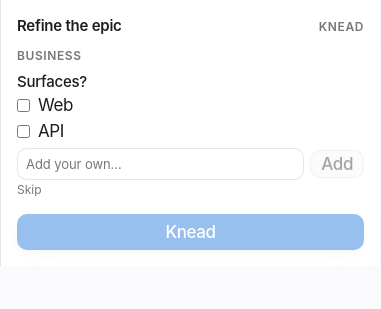
Test: <KneadingPanel> › enables Knead when a multi question is answered ONLY via a custom value
This screenshot has width=381, height=309.
Expected: the button "Knead" is disabled, 17,214 -> 364,250
Type "Mobile" into the field named "add a custom answer for surfaces" at [161, 164], box 17,148 -> 304,180
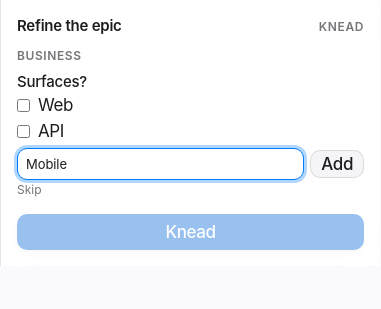
Click the button "Add" at [337, 164], box 310,150 -> 364,178
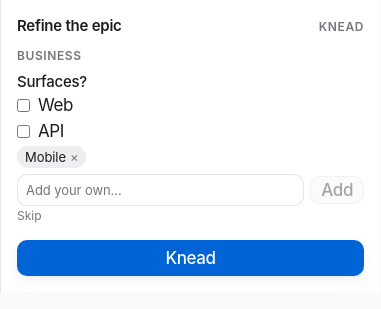
Expected: the button "Knead" is enabled, 17,240 -> 364,276
